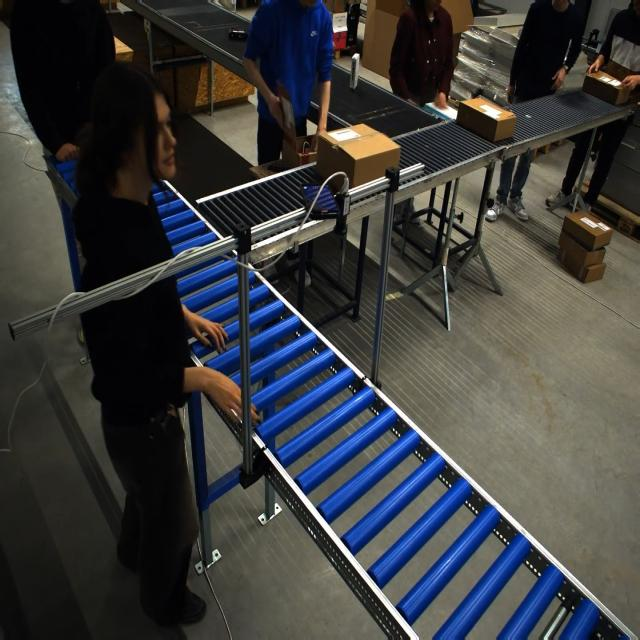box: (322, 124, 391, 191), (456, 96, 517, 143), (282, 133, 316, 170)
product: (280, 96, 296, 129), (349, 53, 360, 90), (228, 29, 249, 41)
